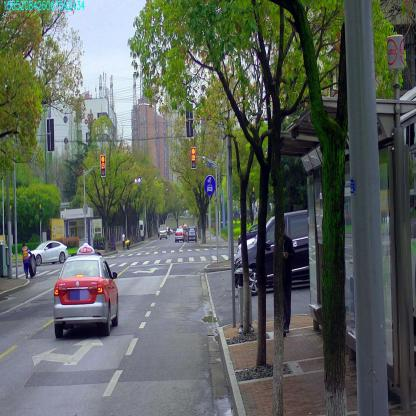traffic-light: (100, 154, 106, 176), (191, 147, 196, 167)
